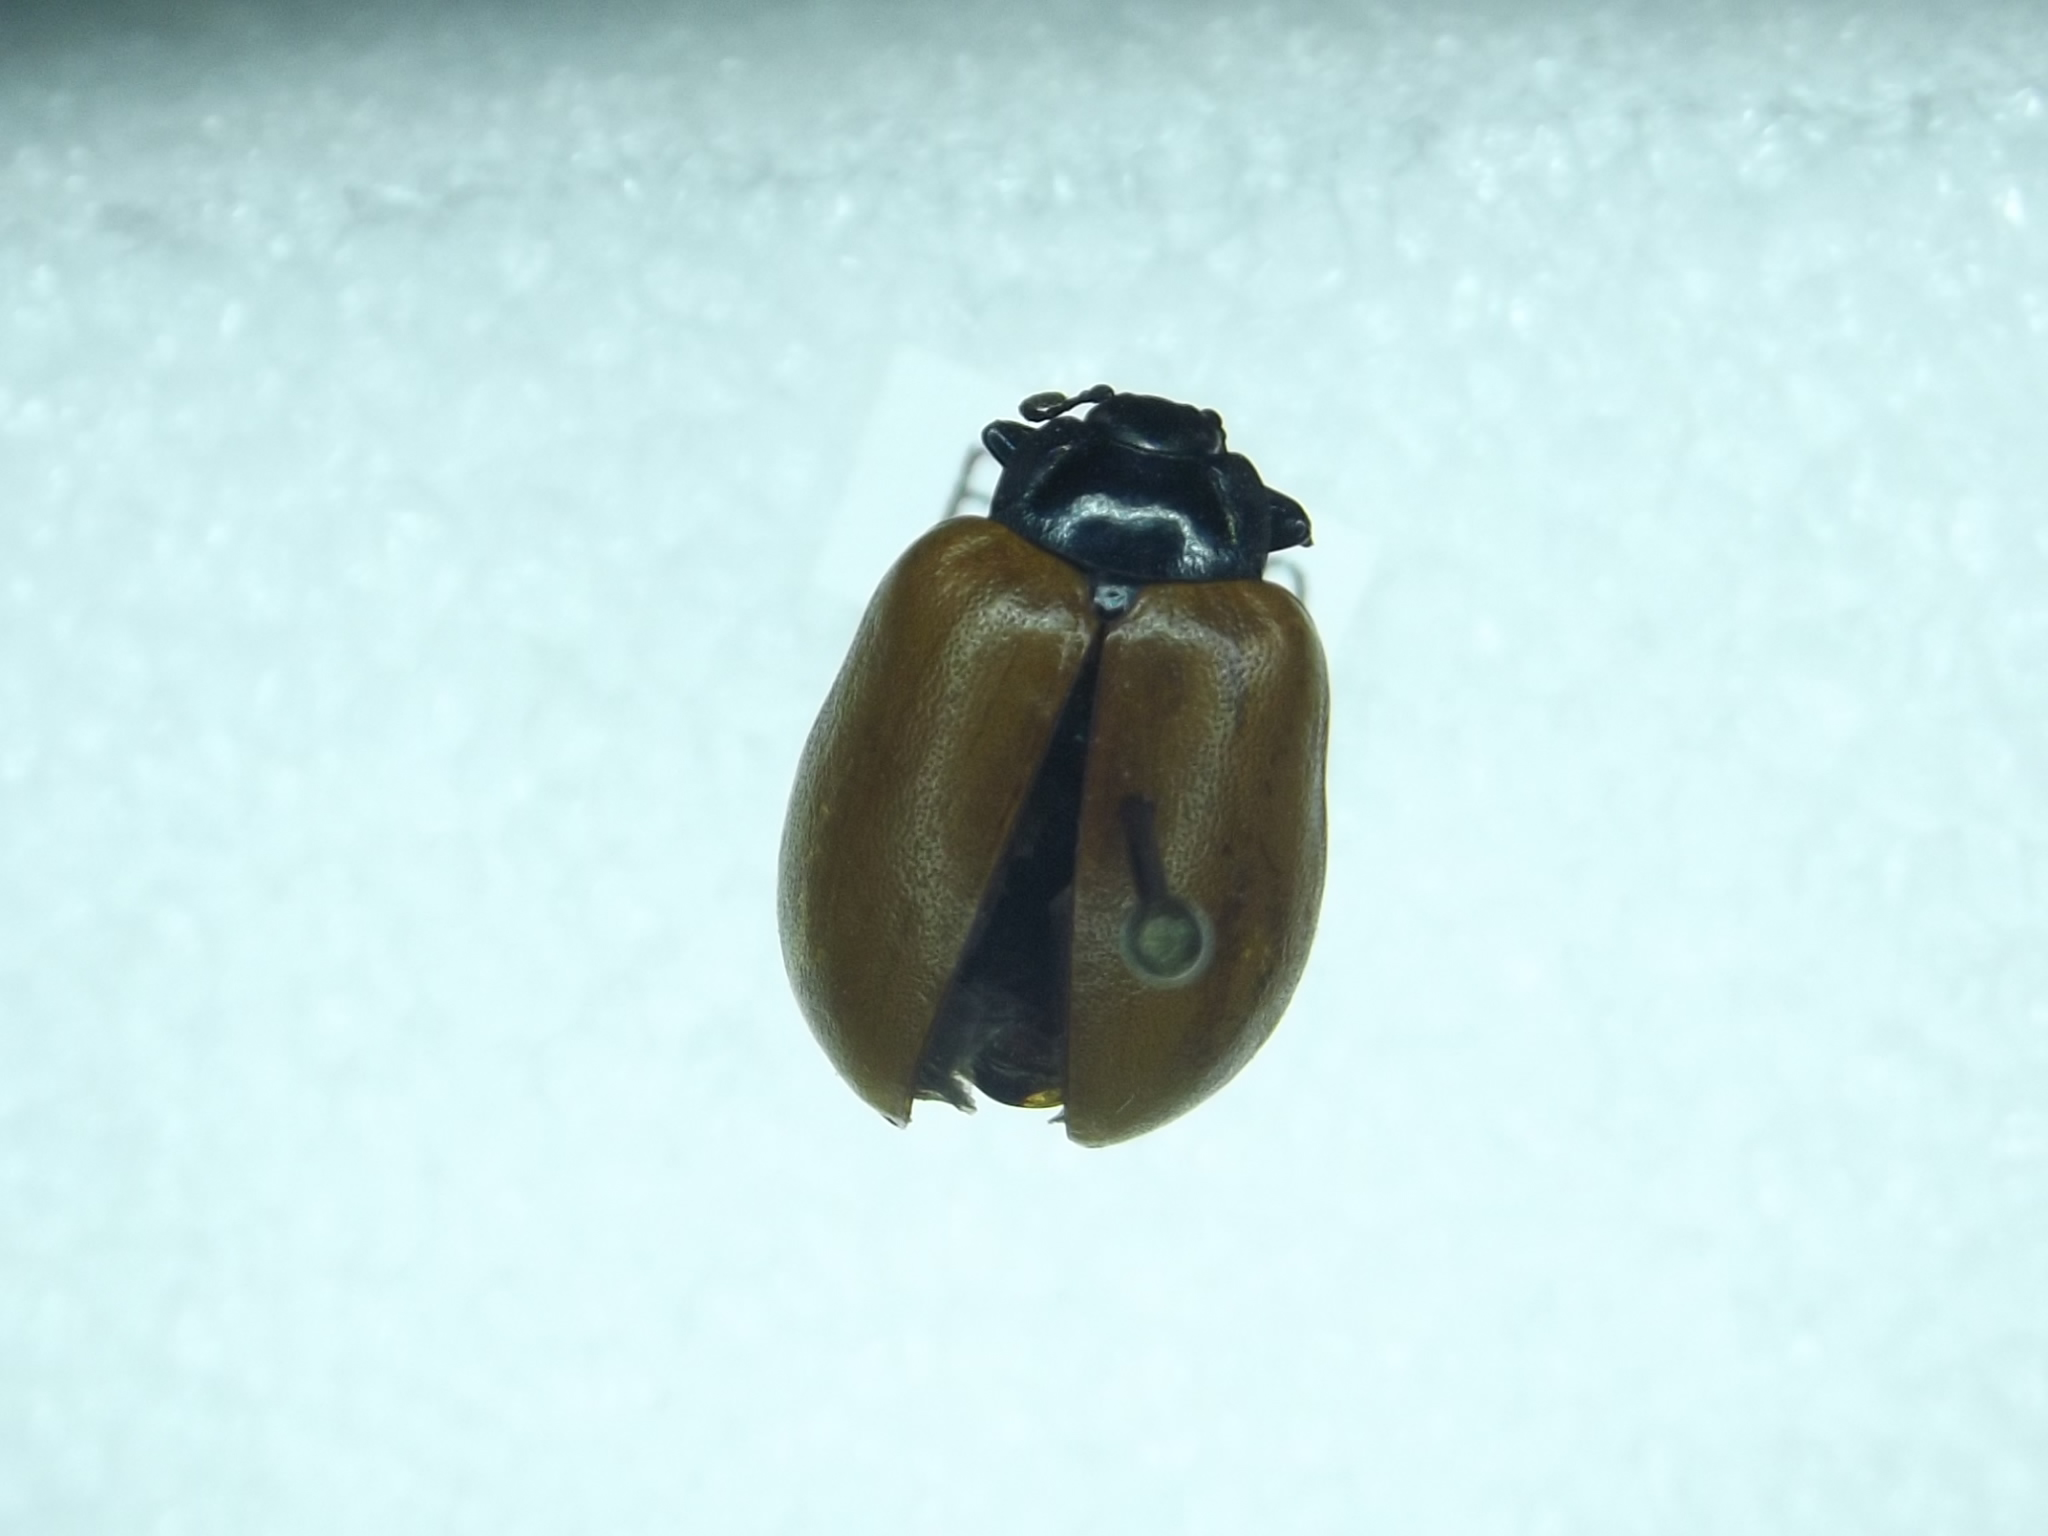Chrysomela_populi: (760, 369, 1366, 1167)
